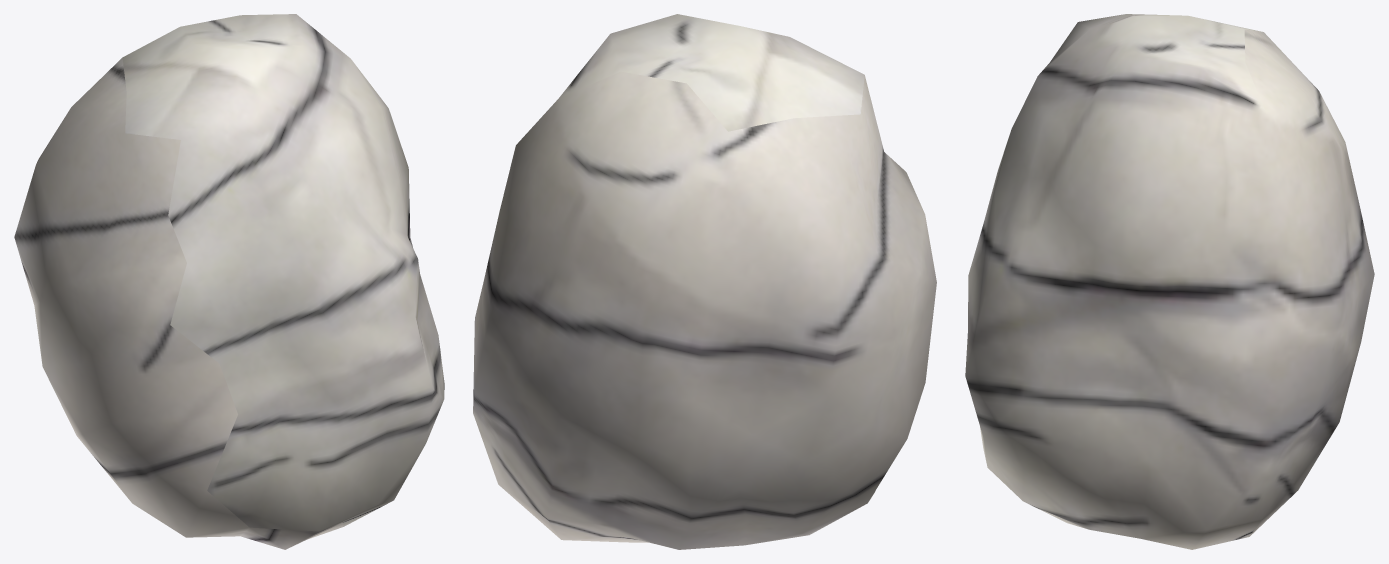
The model's file is jjAsteroidM_obj.fbx.
3 renders of one model, left to right at view 1: azimuth 30°, elevation 25°; view 2: azimuth 150°, elevation 25°; view 3: azimuth 270°, elevation 25°, orthographic. The views are drawn at different scales.
Visible parts, largest first — view 1: AsteroidM_mesh; view 2: AsteroidM_mesh; view 3: AsteroidM_mesh.
Part boxes in pixels (x1,y1,x2,y2): AsteroidM_mesh: [14, 14, 444, 549]; AsteroidM_mesh: [473, 14, 936, 549]; AsteroidM_mesh: [965, 14, 1374, 549].
Bounding box in the file's own units: 1.79 × 2.24 × 1.72.
